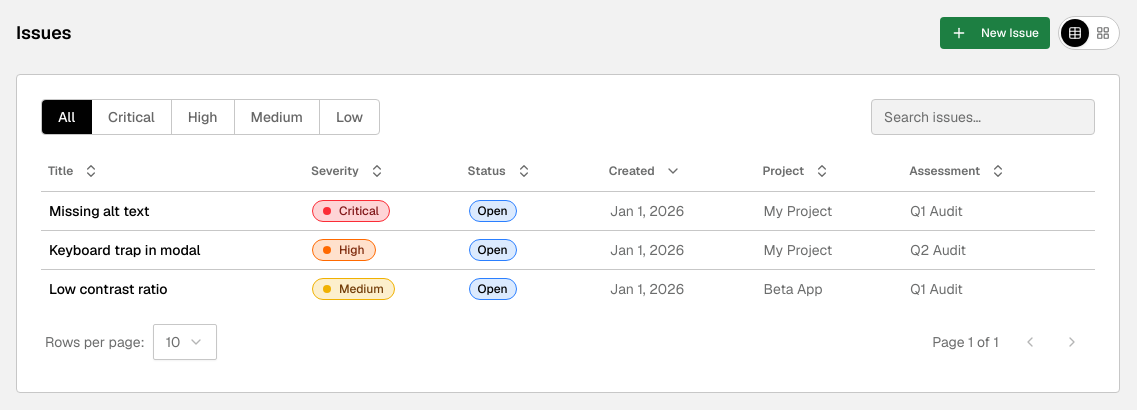
IssuesListView search › filters issues by project name
In the search field: x=983, y=117 [871,99,1095,135], type "Beta App"
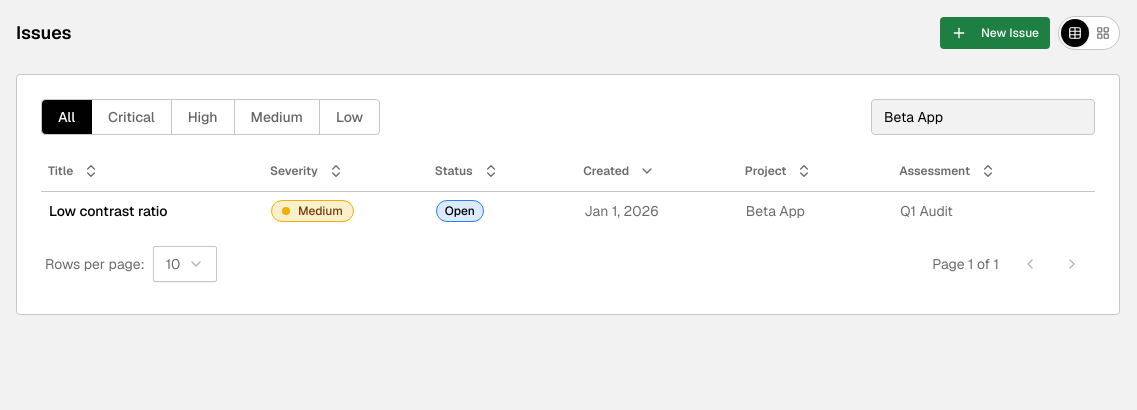
expect the link "Low contrast ratio" is shown: met, box [49,202,167,220]
expect the link "Missing alt text" is gone: met
